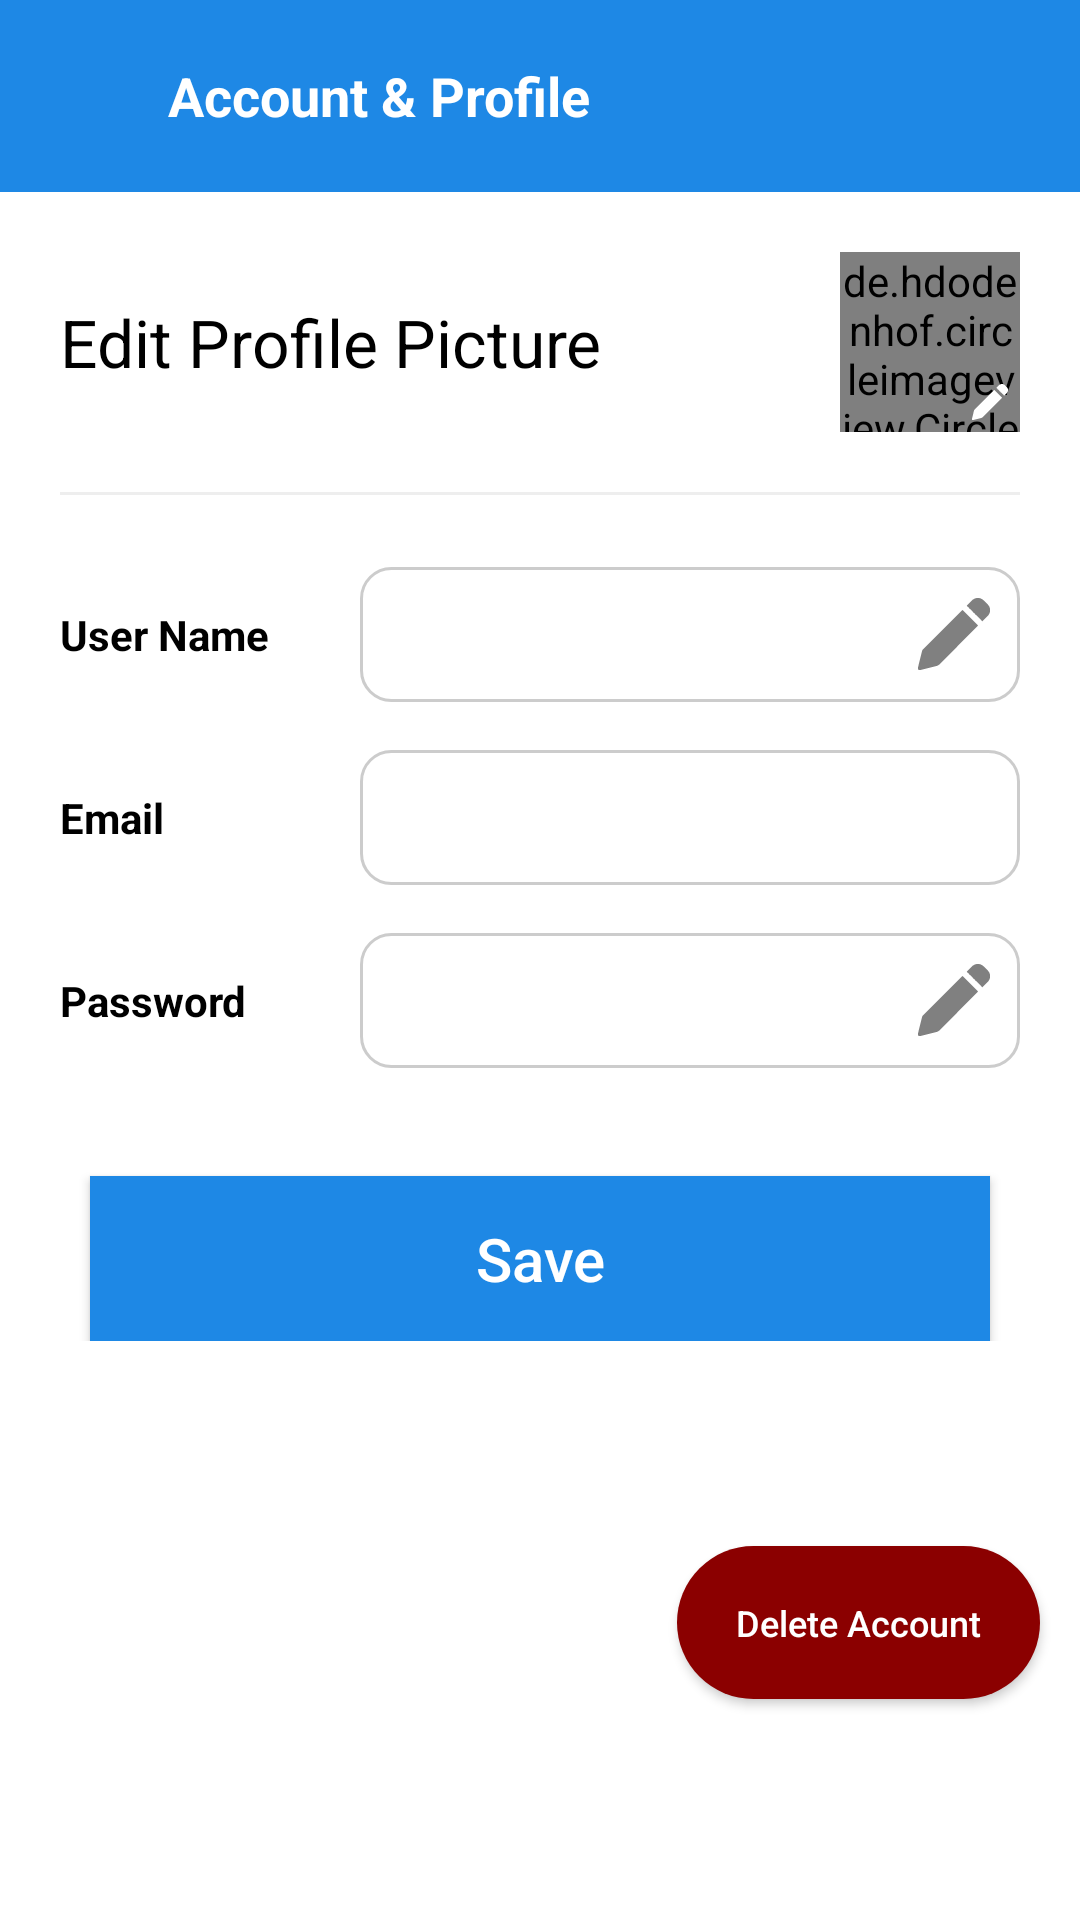

Where to tap for icons on this 1080 x 1920 app screen, as (x,y):
pencil: (990,402), (954,634), (954,1000)
